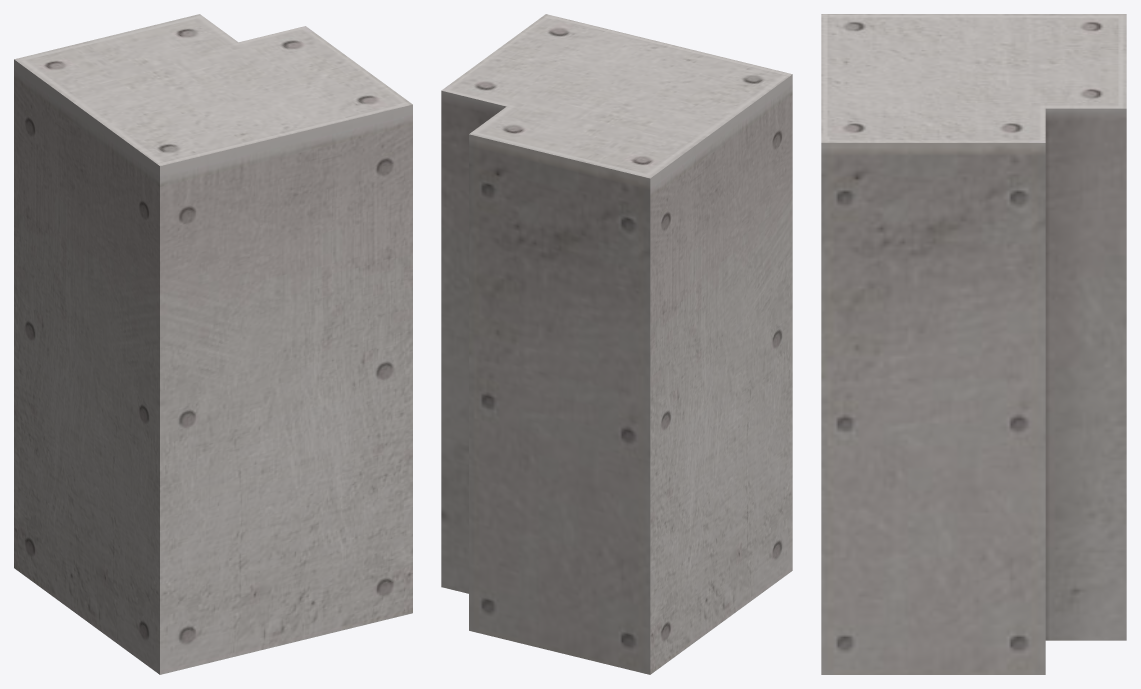
File: wallL.fbx
The picture shows the model from 3 angles, left to right: view 1: azimuth 30°, elevation 25°; view 2: azimuth 150°, elevation 25°; view 3: azimuth 270°, elevation 25°; orthographic projection. The views are drawn at different scales.
Visible parts, largest first — view 1: group7_pPlane15; view 2: group7_pPlane15; view 3: group7_pPlane15.
Boxes of the visible parts, x1=… form: group7_pPlane15: x1=14, y1=14, x2=412, y2=674; group7_pPlane15: x1=441, y1=14, x2=792, y2=674; group7_pPlane15: x1=821, y1=14, x2=1126, y2=674.
Bounding box in the file's own units: 0.7973 × 1.53 × 0.7973.
